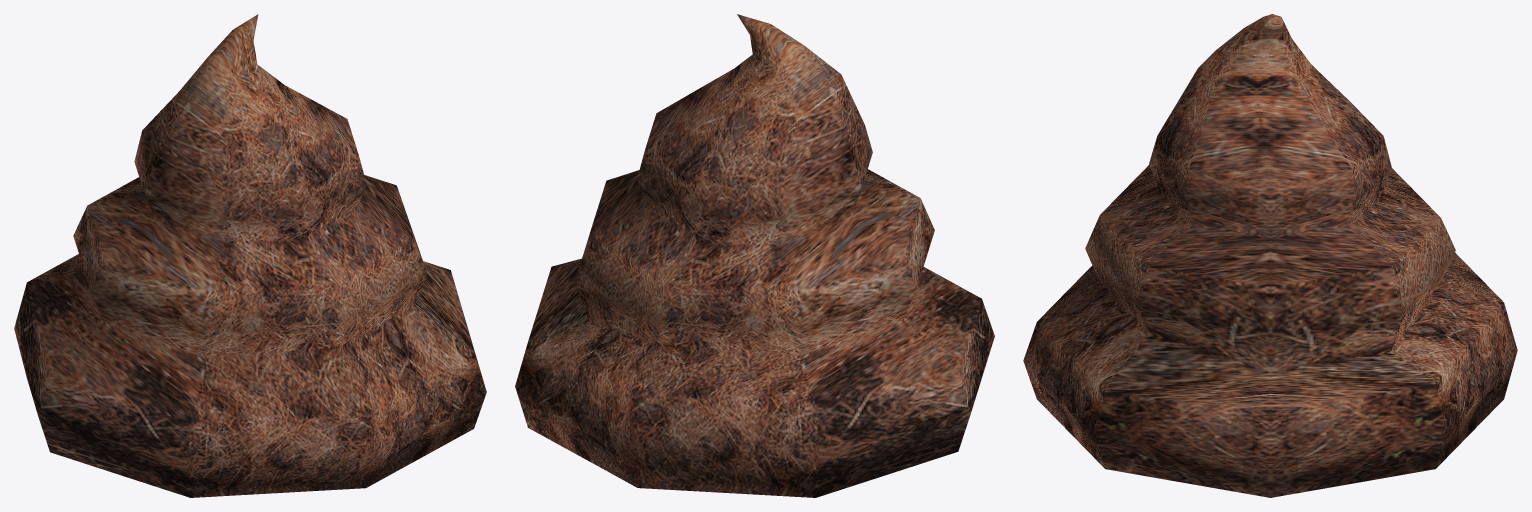
The model's file is shit.fbx.
3 renders of one model, left to right at view 1: azimuth 30°, elevation 25°; view 2: azimuth 150°, elevation 25°; view 3: azimuth 270°, elevation 25°, orthographic.
Parts seen in each view (by area): view 1: shit; view 2: shit; view 3: shit.
Part boxes in pixels (x1,y1,x2,y2): shit: (14, 14, 486, 497); shit: (515, 14, 994, 497); shit: (1023, 14, 1517, 497).
Size of the model in its own units: 13.59 by 12.35 by 13.59.
Materials: 1 (1 with a texture image).
